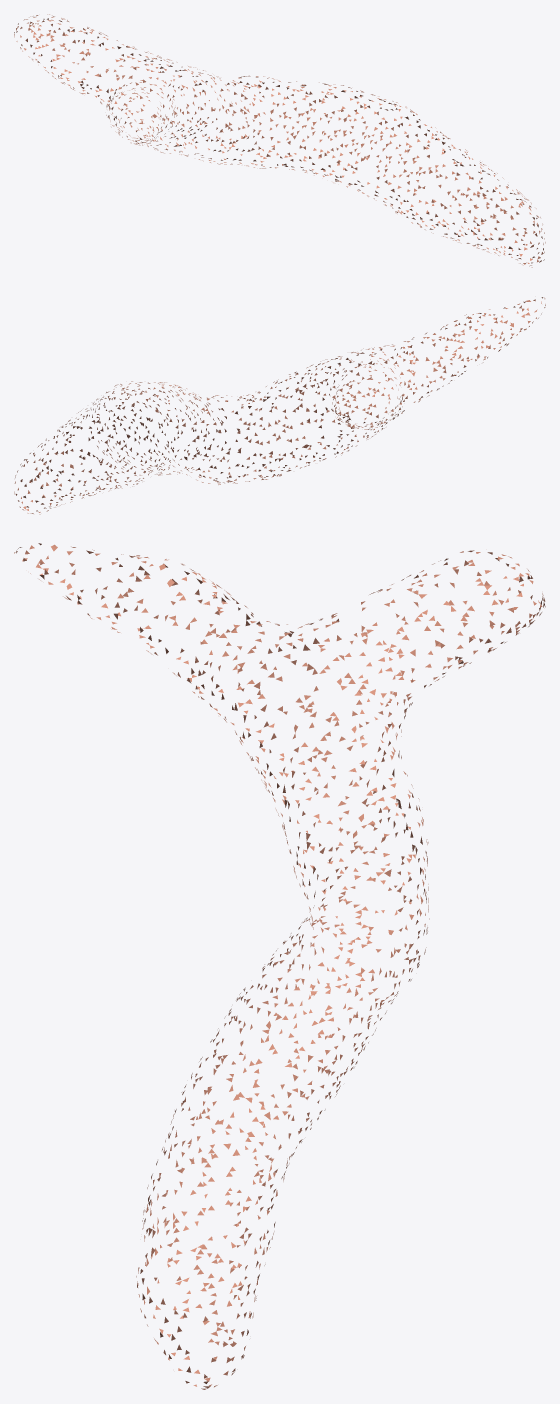
File: morph_003.glb
3 renders of one model, top to bottom at view 1: azimuth 30°, elevation 25°; view 2: azimuth 150°, elevation 25°; view 3: azimuth 270°, elevation 25°, orthographic. The views are drawn at different scales.
Size of the model in its own units: 93.68 by 56.19 by 55.24.
